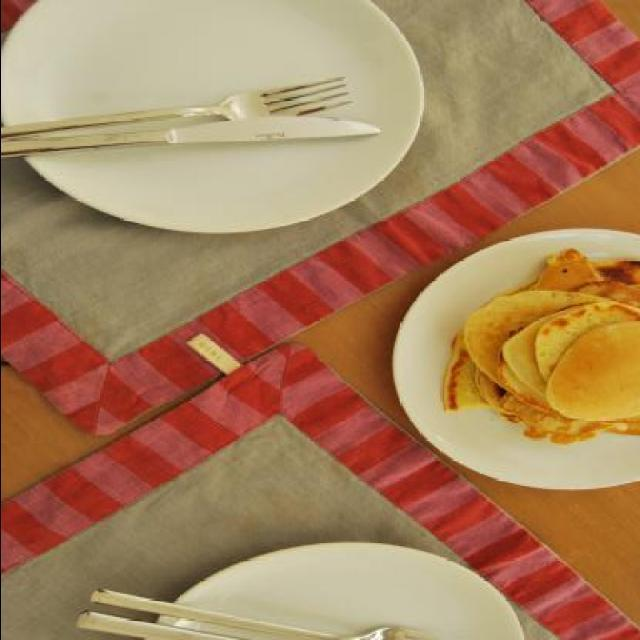Pancake: (437, 248, 640, 446)
